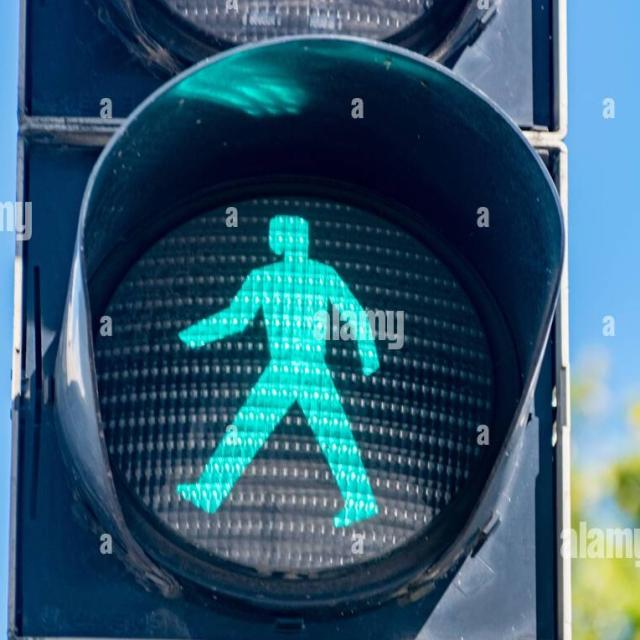green_light: (163, 192, 430, 551)
